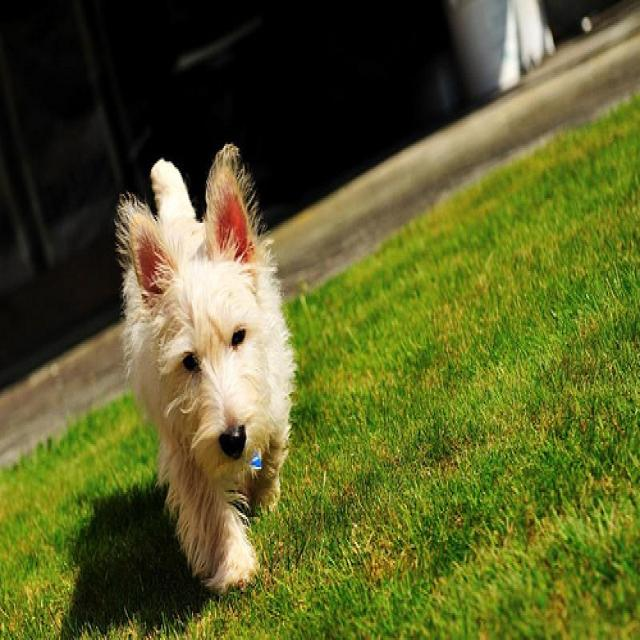dog-scottish_terrier: (108, 136, 297, 598)
